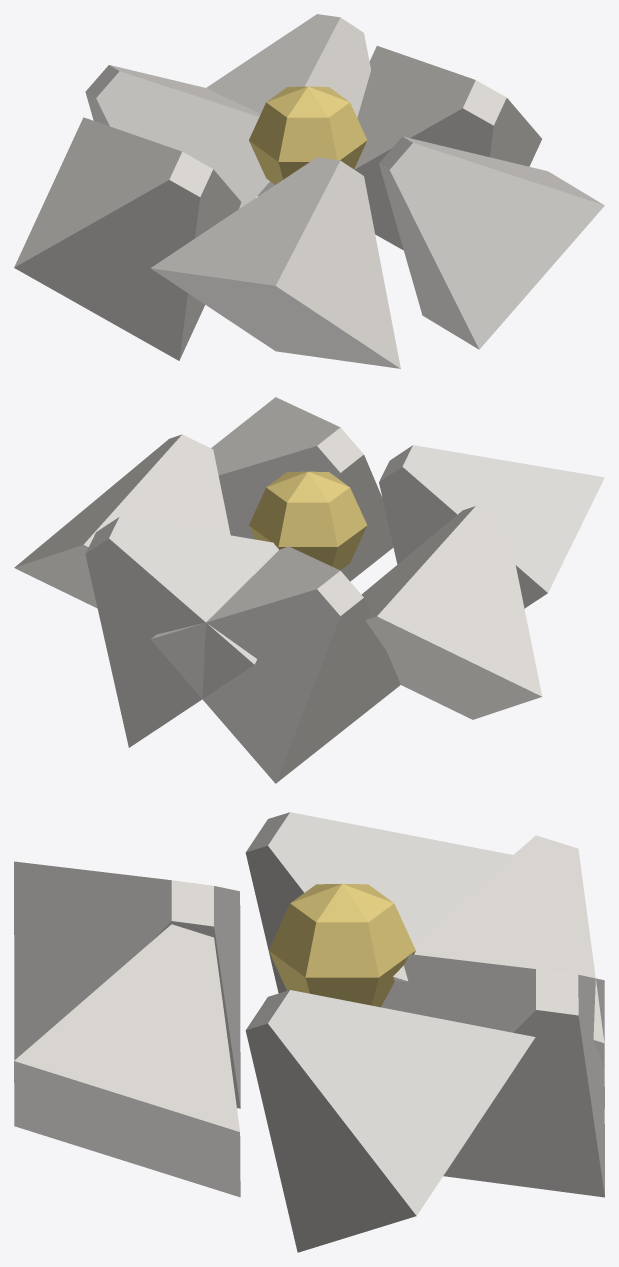
File: 15_LilyPad_White.glb
3 renders of one model, top to bottom at view 1: azimuth 30°, elevation 25°; view 2: azimuth 150°, elevation 25°; view 3: azimuth 270°, elevation 25°, orthographic. The views are drawn at different scales.
Parts seen in each view (by area): view 1: LilyPadWhite_Petal5, LilyPadWhite_Petal4, LilyPadWhite_Petal6, LilyPadWhite_Petal1, LilyPadWhite_Petal3, LilyPadWhite_Petal2, LilyPadWhite_Center; view 2: LilyPadWhite_Petal3, LilyPadWhite_Petal4, LilyPadWhite_Petal2, LilyPadWhite_Petal5, LilyPadWhite_Petal6, LilyPadWhite_Petal1, LilyPadWhite_Center; view 3: LilyPadWhite_Petal1, LilyPadWhite_Petal6, LilyPadWhite_Petal2, LilyPadWhite_Petal5, LilyPadWhite_Petal4, LilyPadWhite_Petal3, LilyPadWhite_Center.
Boxes of the visible parts, x1=… form: LilyPadWhite_Petal5: x1=150, y1=157, x2=400, y2=368; LilyPadWhite_Petal4: x1=14, y1=117, x2=241, y2=360; LilyPadWhite_Petal6: x1=379, y1=136, x2=604, y2=349; LilyPadWhite_Petal1: x1=354, y1=45, x2=541, y2=250; LilyPadWhite_Petal3: x1=85, y1=65, x2=269, y2=208; LilyPadWhite_Petal2: x1=206, y1=14, x2=370, y2=196; LilyPadWhite_Center: x1=249, y1=86, x2=367, y2=184; LilyPadWhite_Petal3: x1=150, y1=546, x2=400, y2=783; LilyPadWhite_Petal4: x1=361, y1=506, x2=542, y2=719; LilyPadWhite_Petal2: x1=85, y1=516, x2=278, y2=747; LilyPadWhite_Petal5: x1=379, y1=445, x2=604, y2=608; LilyPadWhite_Petal6: x1=211, y1=397, x2=393, y2=581; LilyPadWhite_Petal1: x1=14, y1=434, x2=230, y2=608; LilyPadWhite_Center: x1=249, y1=471, x2=367, y2=570; LilyPadWhite_Petal1: x1=245, y1=990, x2=535, y2=1252; LilyPadWhite_Petal6: x1=14, y1=924, x2=240, y2=1197; LilyPadWhite_Petal2: x1=381, y1=954, x2=604, y2=1197; LilyPadWhite_Petal5: x1=14, y1=861, x2=240, y2=1108; LilyPadWhite_Petal4: x1=245, y1=812, x2=512, y2=993; LilyPadWhite_Petal3: x1=393, y1=835, x2=604, y2=1108; LilyPadWhite_Center: x1=268, y1=883, x2=415, y2=1007.
Size of what is drawn, in the model's own units: 0.36 by 0.1469 by 0.2809.
